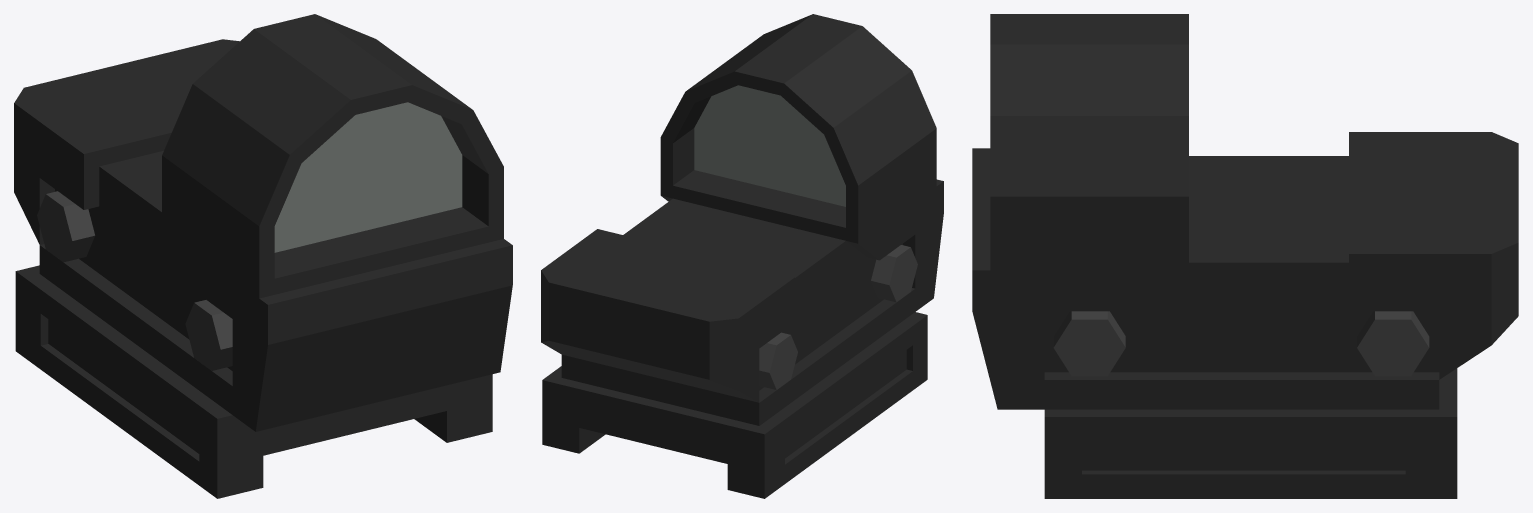
Rendered from Optic_A.fbx.
3 renders of one model, left to right at view 1: azimuth 30°, elevation 25°; view 2: azimuth 150°, elevation 25°; view 3: azimuth 270°, elevation 25°, orthographic. The views are drawn at different scales.
Visible parts, largest first — view 1: Optic_A; view 2: Optic_A; view 3: Optic_A.
Part boxes in pixels (x1,y1,x2,y2): Optic_A: [14, 14, 512, 498]; Optic_A: [541, 14, 943, 498]; Optic_A: [972, 14, 1518, 498].
Bounding box in the file's own units: 0.18 × 0.245 × 0.3025.
